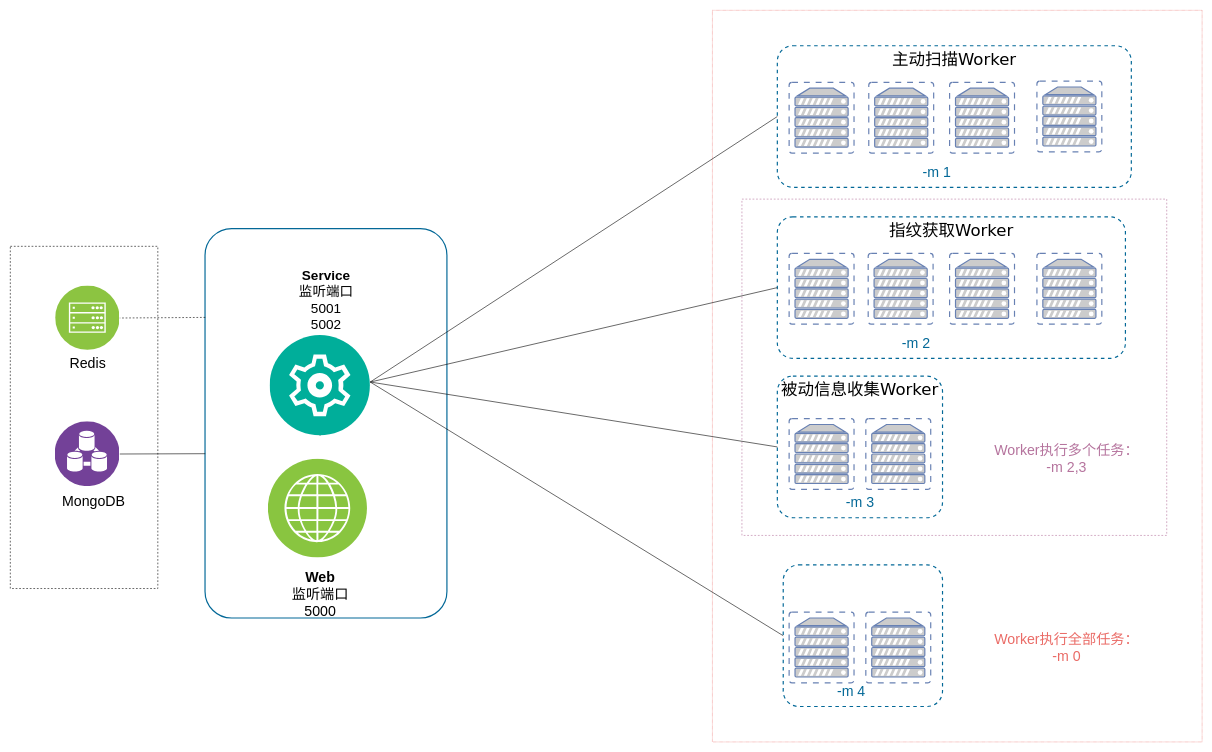
Image size: 1212x752. Some labels were removed from this diagram. The shapes that lost their labels are listed below. From the top down, each one's box as (x1, y1, x2, y2) in pixels, then its label:
(204, 228, 447, 618): Server端
(782, 564, 943, 707): 漏洞验证Worker
